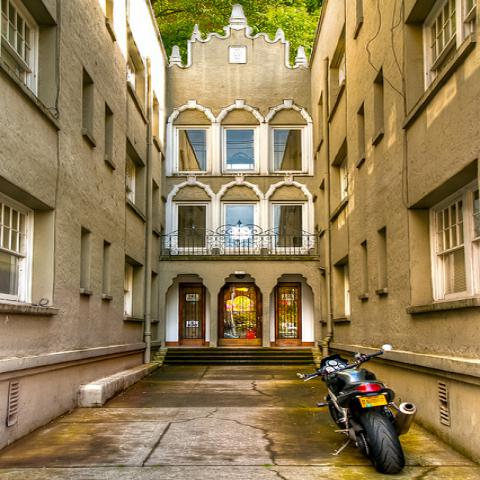motorcycle: (295, 347, 417, 468)
